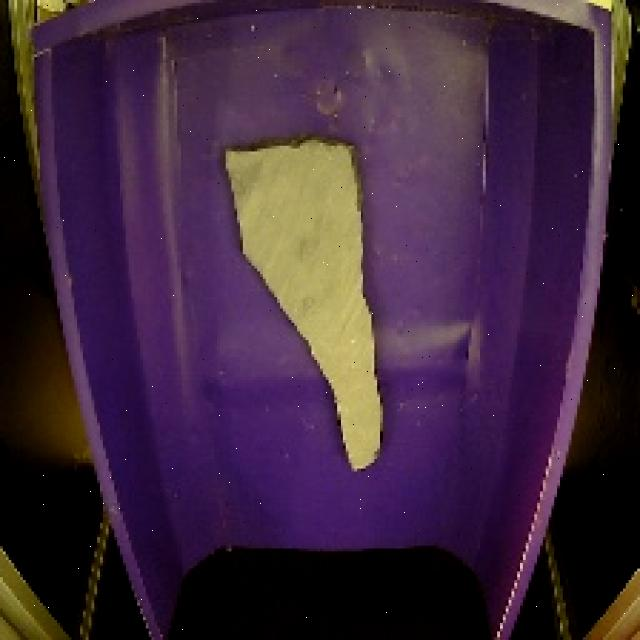china: (205, 128, 394, 486)
